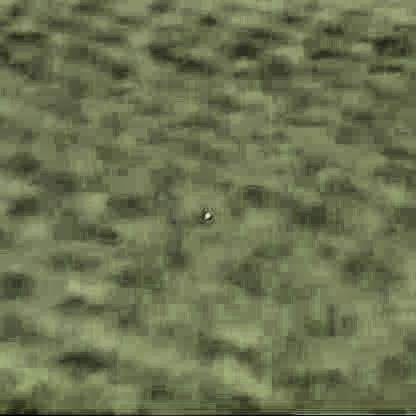golfball: (203, 210, 210, 217)
